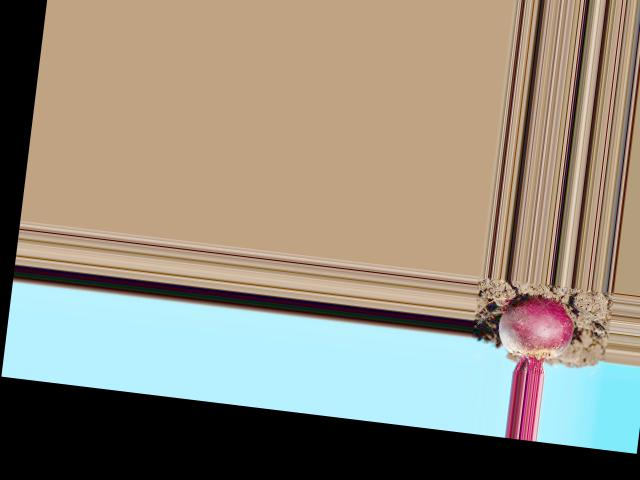beet: (492, 291, 576, 378)
